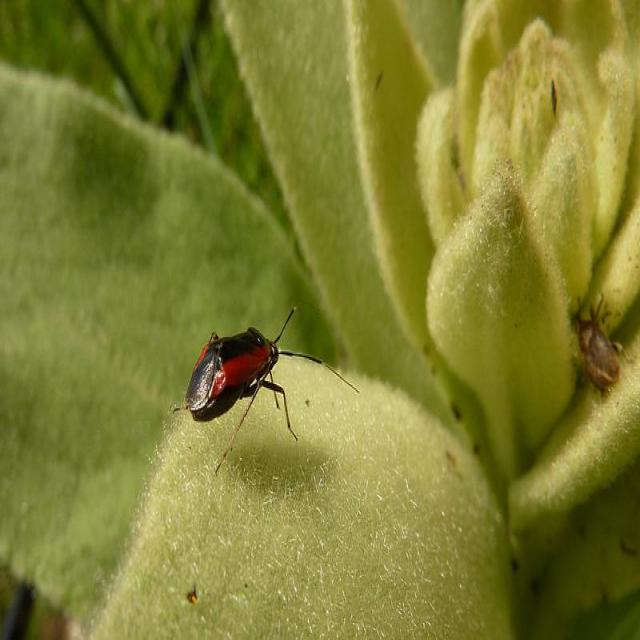Miridae-Adult-: (182, 300, 362, 462)
